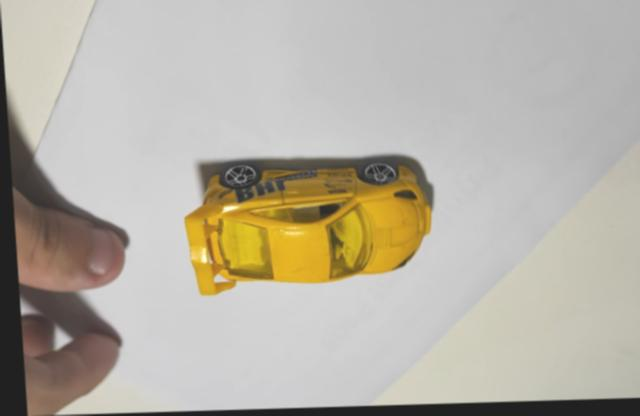07_RHLTURBO: (181, 157, 430, 296)
